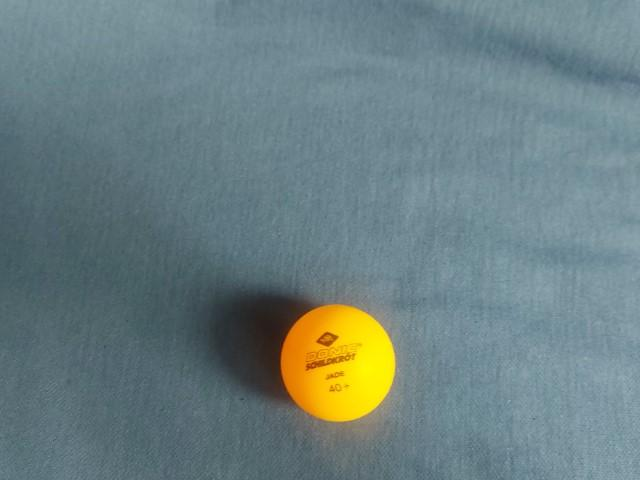oball: (238, 55, 365, 182)
